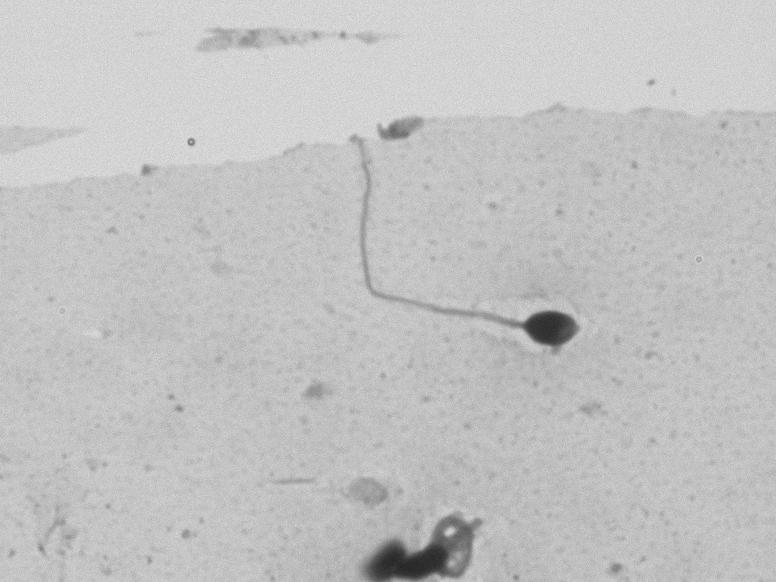Abnormal: (298, 149, 597, 376)
